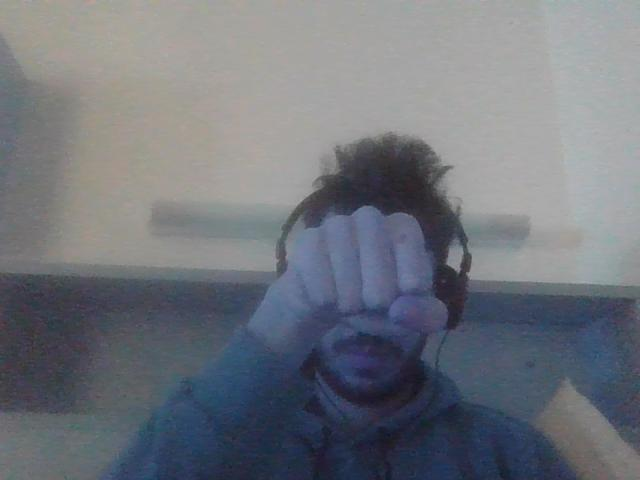yes: (289, 205, 450, 340)
